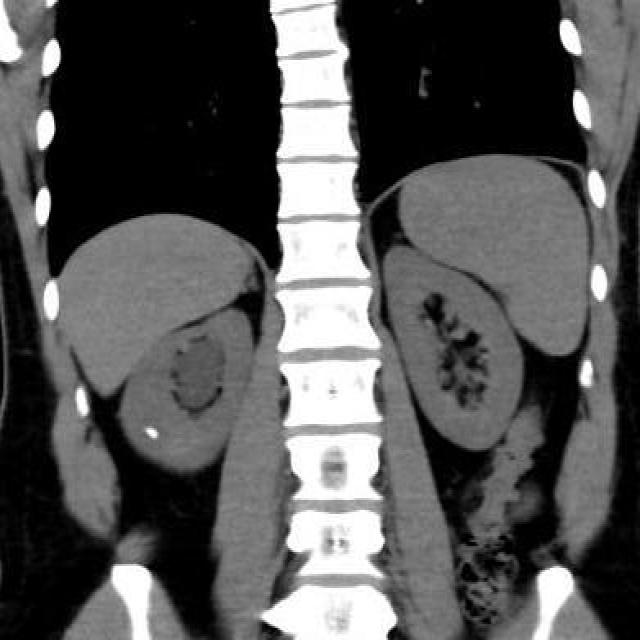Tas_Var: (142, 424, 161, 444)
